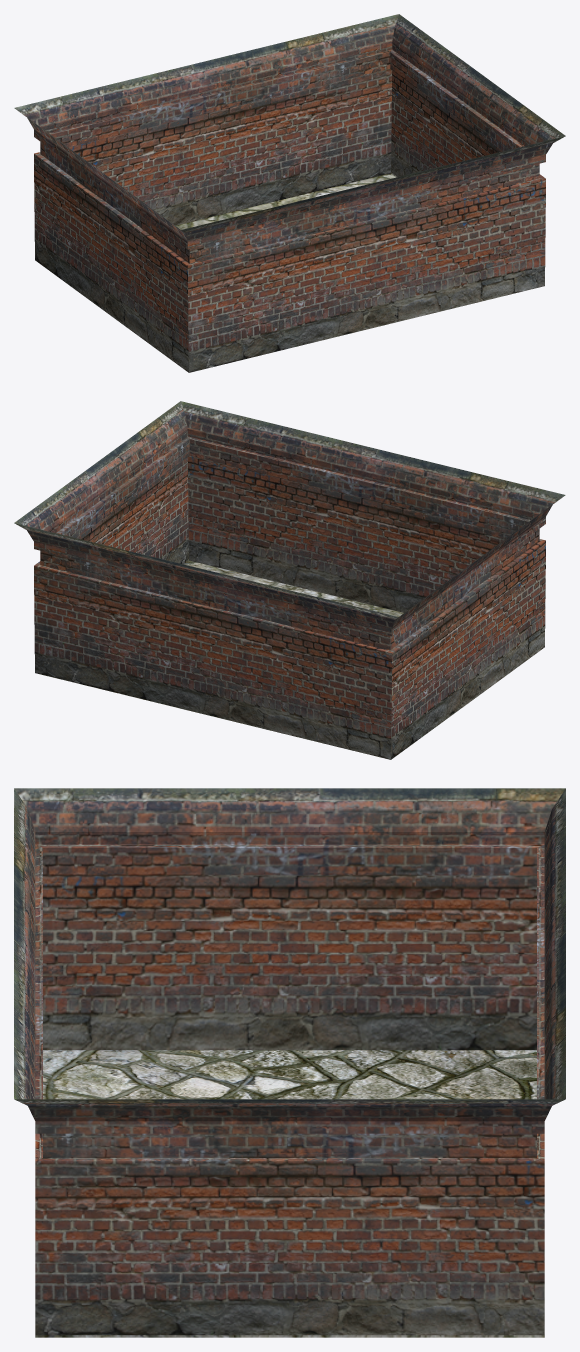
The model's file is RoomBase.fbx.
3 renders of one model, top to bottom at view 1: azimuth 30°, elevation 25°; view 2: azimuth 150°, elevation 25°; view 3: azimuth 270°, elevation 25°, orthographic. The views are drawn at different scales.
Visible parts, largest first — view 1: RoomBase; view 2: RoomBase; view 3: RoomBase.
Part boxes in pixels (bbox=[...]): RoomBase: bbox=[14, 14, 565, 372]; RoomBase: bbox=[14, 401, 565, 759]; RoomBase: bbox=[14, 788, 565, 1337].
Bounding box in the file's own units: 800 × 300 × 600.
